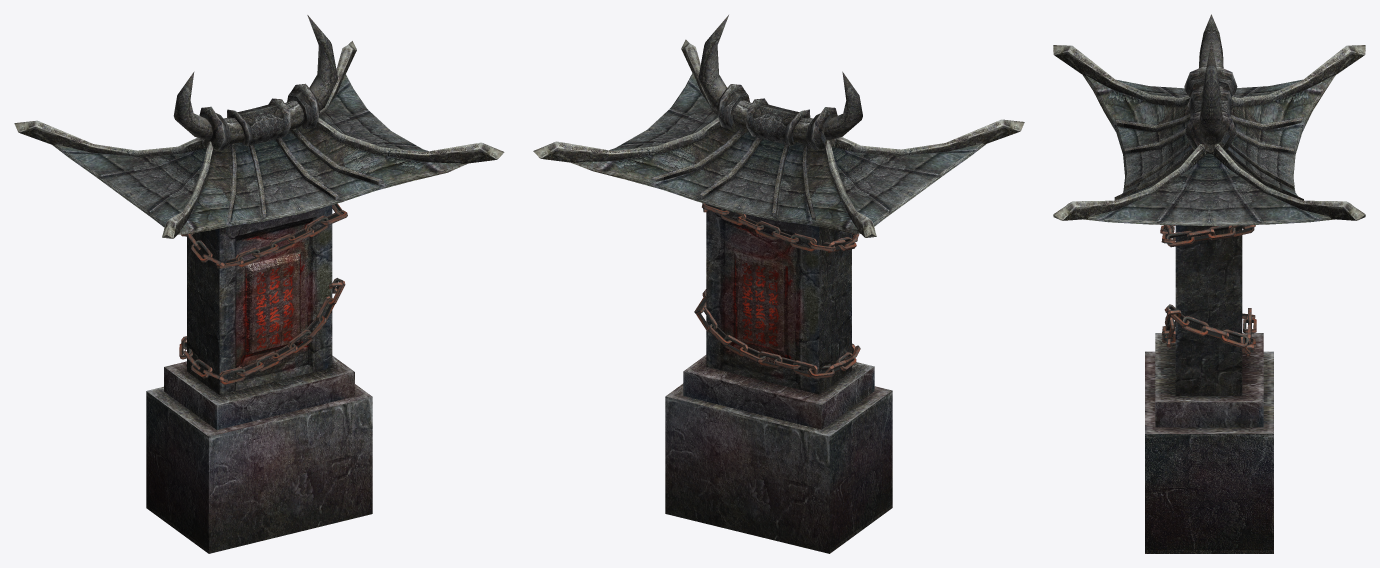
File: dragon_gate.fbx
The picture shows the model from 3 angles, left to right: view 1: azimuth 30°, elevation 25°; view 2: azimuth 150°, elevation 25°; view 3: azimuth 270°, elevation 25°; orthographic projection. The views are drawn at different scales.
Parts seen in each view (by area): view 1: dragon_gate; view 2: dragon_gate; view 3: dragon_gate.
Boxes of the visible parts, left/top/right/bottom form: dragon_gate: left=14, top=15, right=504, bottom=553; dragon_gate: left=533, top=15, right=1024, bottom=553; dragon_gate: left=1053, top=14, right=1365, bottom=553.
Bounding box in the file's own units: 10.72 × 14.66 × 8.35.
